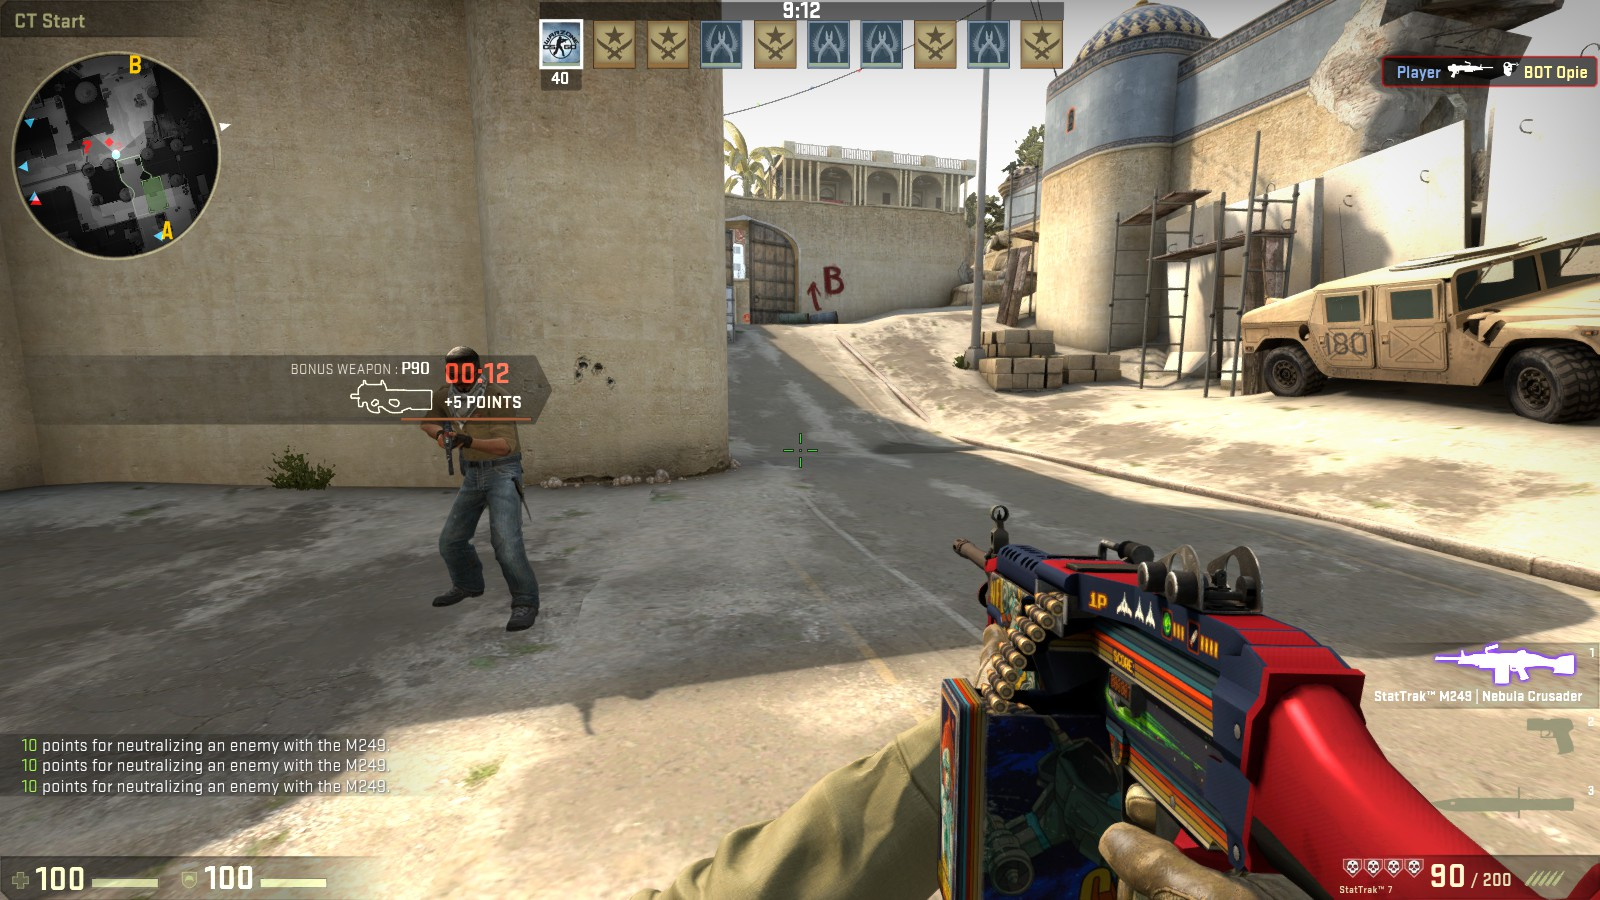t: (415, 346, 549, 630)
th: (444, 347, 489, 396)
